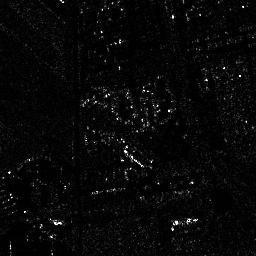ship: (172, 217, 199, 225)
